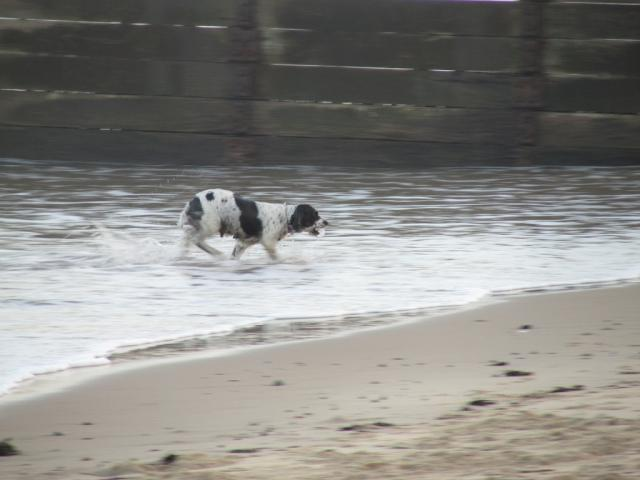Dog: (173, 187, 328, 259)
